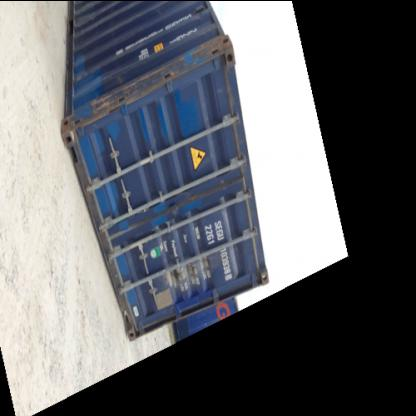Damage: (92, 84, 147, 118), (199, 30, 228, 60), (118, 6, 142, 34)
